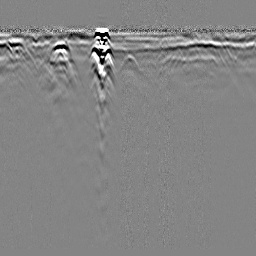cavity: (117, 52, 140, 73)
